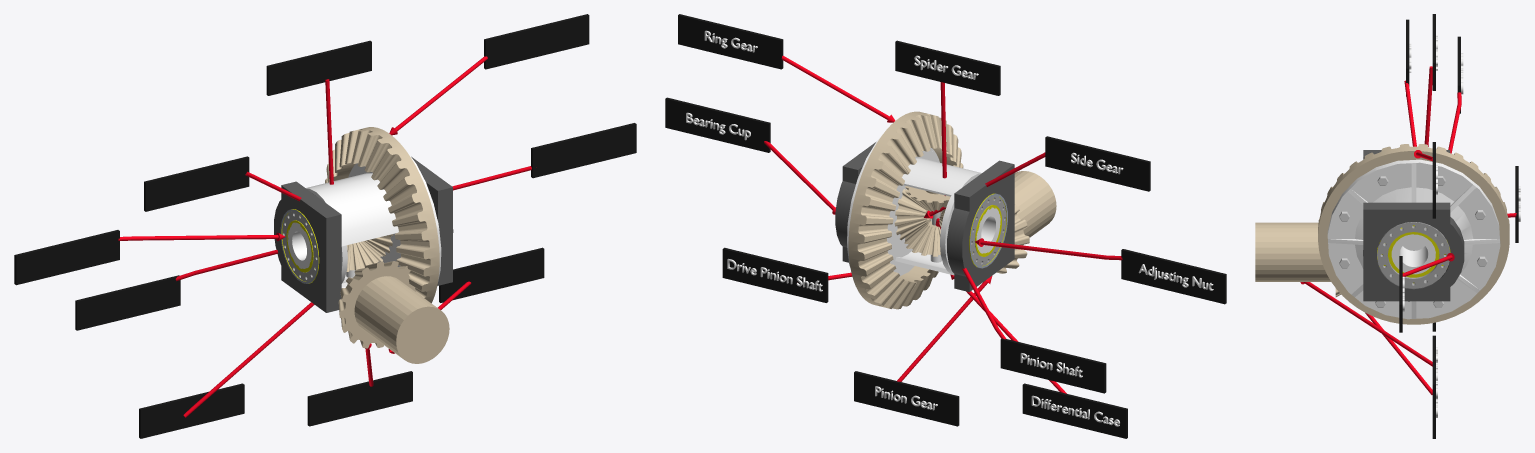
The picture shows the model from 3 angles, left to right: view 1: azimuth 30°, elevation 25°; view 2: azimuth 150°, elevation 25°; view 3: azimuth 270°, elevation 25°; orthographic projection. The views are drawn at different scales.
Parts seen in each view (by area): view 1: 1, Cylinder, Cube.005, Cube.008, Cube.001, Cube.007, Cube.002, Cube.003, Cube.004, Cube, Cube.009, Cone.006 (+2 smaller); view 2: 1, Cube.002, Cube.003, Cube.007, Cube.004, Cube.001, Cube.005, Cube.008, Cube.009, Cube, Cylinder, Cone.006 (+5 smaller); view 3: 1, Cylinder, Cone.008, Cone.005, Cone.004, Cube.009, Cube.001, Cube.005, Cube.007, Cone.003, Cube.003, Cone.006 (+1 smaller).
Boxes of the visible parts, bbox=[...] form: 1: bbox=[274, 127, 453, 348]; Cylinder: bbox=[354, 276, 449, 363]; Cube.005: bbox=[531, 123, 636, 178]; Cube.008: bbox=[14, 230, 119, 285]; Cube.001: bbox=[266, 40, 371, 95]; Cube.007: bbox=[484, 14, 589, 69]; Cube.002: bbox=[144, 156, 249, 211]; Cube.003: bbox=[75, 275, 180, 330]; Cube.004: bbox=[307, 371, 412, 426]; Cube: bbox=[139, 383, 244, 438]; Cube.009: bbox=[439, 247, 544, 302]; Cone.006: bbox=[118, 232, 285, 241]; 1: bbox=[835, 111, 1029, 309]; Cube.002: bbox=[1045, 136, 1150, 191]; Cube.003: bbox=[1000, 338, 1106, 393]; Cube.007: bbox=[678, 14, 783, 69]; Cube.004: bbox=[854, 371, 959, 426]; Cube.001: bbox=[895, 40, 1000, 95]; Cube.005: bbox=[665, 97, 770, 152]; Cube.008: bbox=[1121, 249, 1226, 304]; Cube.009: bbox=[722, 247, 828, 302]; Cube: bbox=[1022, 383, 1127, 438]; Cylinder: bbox=[1014, 171, 1056, 237]; Cone.006: bbox=[975, 238, 1122, 260]; 1: bbox=[1318, 144, 1509, 324]; Cylinder: bbox=[1255, 222, 1330, 281]; Cone.008: bbox=[1300, 282, 1432, 366]; Cone.005: bbox=[1365, 313, 1432, 394]; Cone.004: bbox=[1424, 66, 1432, 146]; Cube.009: bbox=[1432, 335, 1435, 412]; Cube.001: bbox=[1432, 14, 1435, 90]; Cube.005: bbox=[1399, 256, 1402, 332]; Cube.007: bbox=[1432, 142, 1435, 218]; Cone.003: bbox=[1404, 80, 1416, 146]; Cube.003: bbox=[1515, 166, 1518, 242]; Cone.006: bbox=[1448, 92, 1461, 153].
Bounding box in the file's own units: 30438 × 18214 × 12290.
